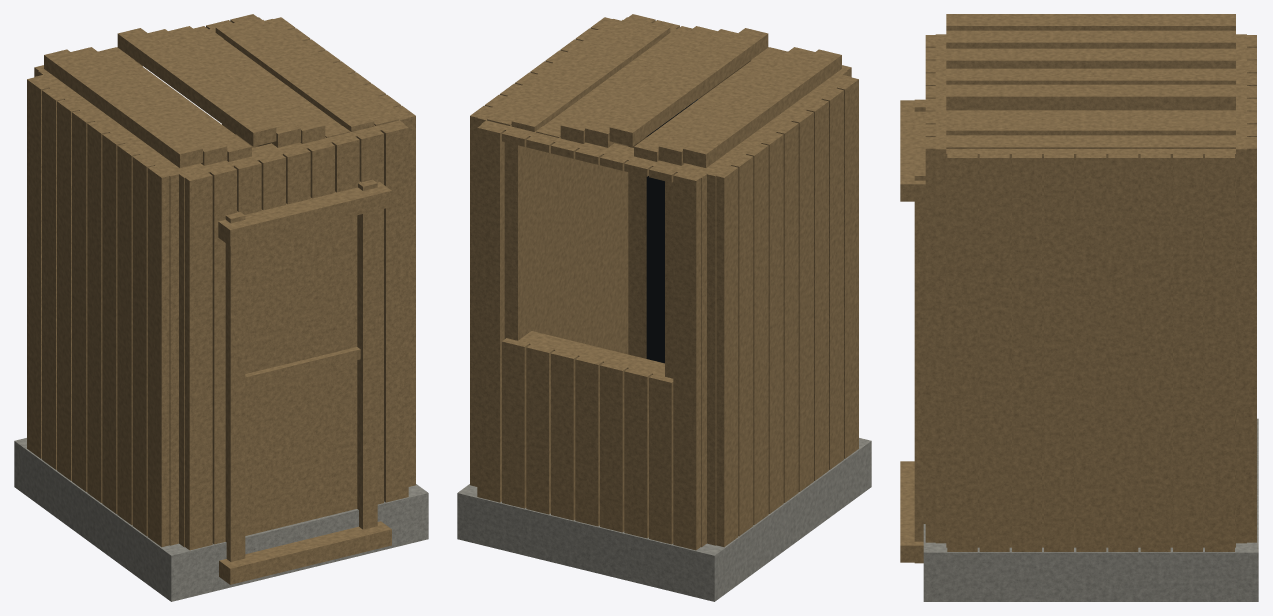
The model's file is PHONSHK2_lod2.glb.
3 renders of one model, left to right at view 1: azimuth 30°, elevation 25°; view 2: azimuth 150°, elevation 25°; view 3: azimuth 270°, elevation 25°, orthographic. The views are drawn at different scales.
Visible parts, largest first — view 1: PHONSHK2_LOD2; view 2: PHONSHK2_LOD2; view 3: PHONSHK2_LOD2.
Part boxes in pixels (x1,y1,x2,y2): PHONSHK2_LOD2: (14,14,428,601); PHONSHK2_LOD2: (457,14,871,601); PHONSHK2_LOD2: (900,14,1258,601).
Bounding box in the file's own units: 1.75 × 2.85 × 1.98.
6 materials, 4 textured.
